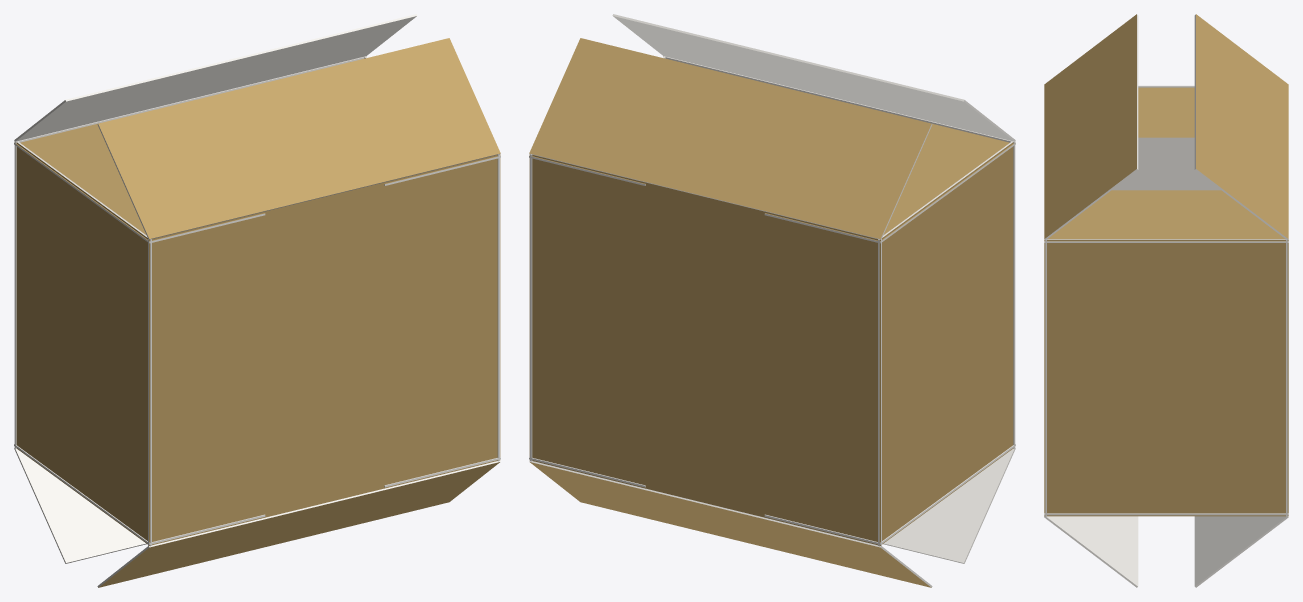
The picture shows the model from 3 angles, left to right: view 1: azimuth 30°, elevation 25°; view 2: azimuth 150°, elevation 25°; view 3: azimuth 270°, elevation 25°; orthographic projection. The views are drawn at different scales.
Visible parts, largest first — view 1: Packive_Box_fefco0201; view 2: Packive_Box_fefco0201; view 3: Packive_Box_fefco0201.
Part boxes in pixels (box(x1,y1,x2,y2)): Packive_Box_fefco0201: box(14, 14, 500, 587); Packive_Box_fefco0201: box(529, 14, 1015, 587); Packive_Box_fefco0201: box(1044, 14, 1288, 587).
Size of the model in its own units: 0.3 by 0.3788 by 0.2.
Materials: 24 (12 with a texture image).
